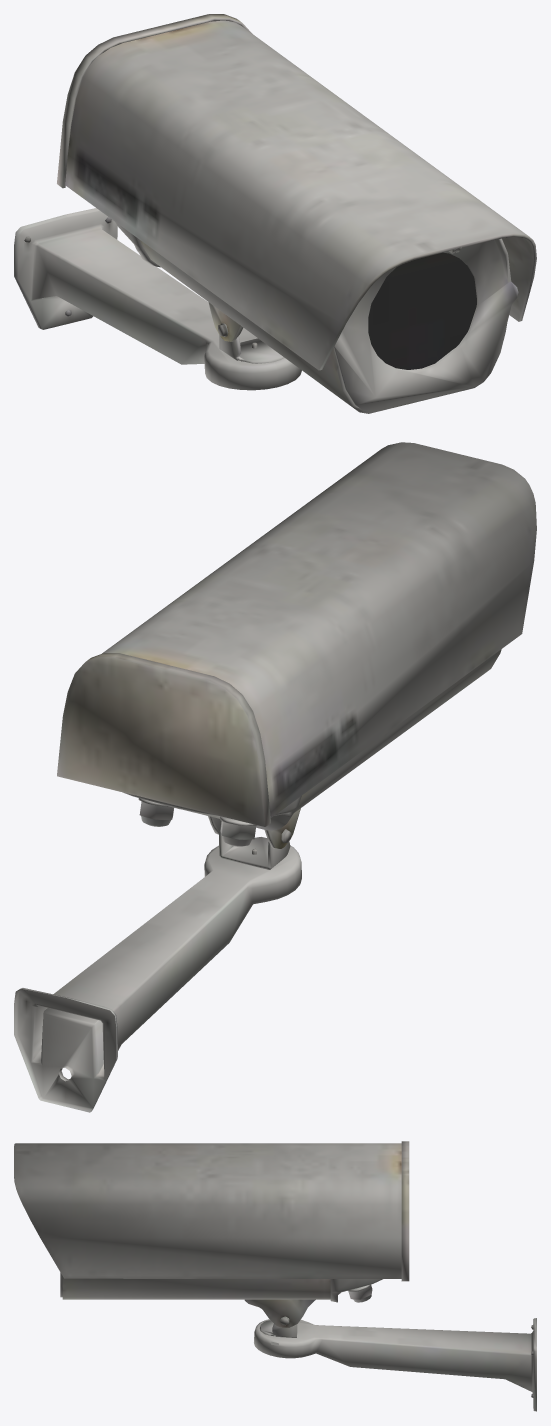
Rendered from security_camera_01.glb.
3 renders of one model, top to bottom at view 1: azimuth 30°, elevation 25°; view 2: azimuth 150°, elevation 25°; view 3: azimuth 270°, elevation 25°, orthographic. The views are drawn at different scales.
Parts seen in each view (by area): view 1: security_camera_01; view 2: security_camera_01; view 3: security_camera_01.
Part boxes in pixels (x1=…): security_camera_01: x1=14, y1=14, x2=536, y2=413; security_camera_01: x1=14, y1=442, x2=536, y2=1112; security_camera_01: x1=14, y1=1141, x2=536, y2=1411.
Size of the model in its own units: 0.1695 by 0.2854 by 0.5536.
Materials: 2 (2 with a texture image).
